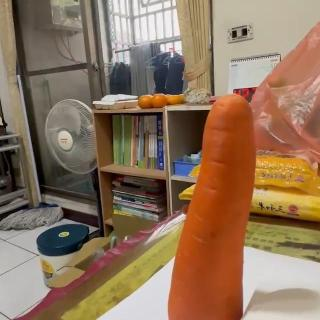carrot: (166, 95, 255, 320)
